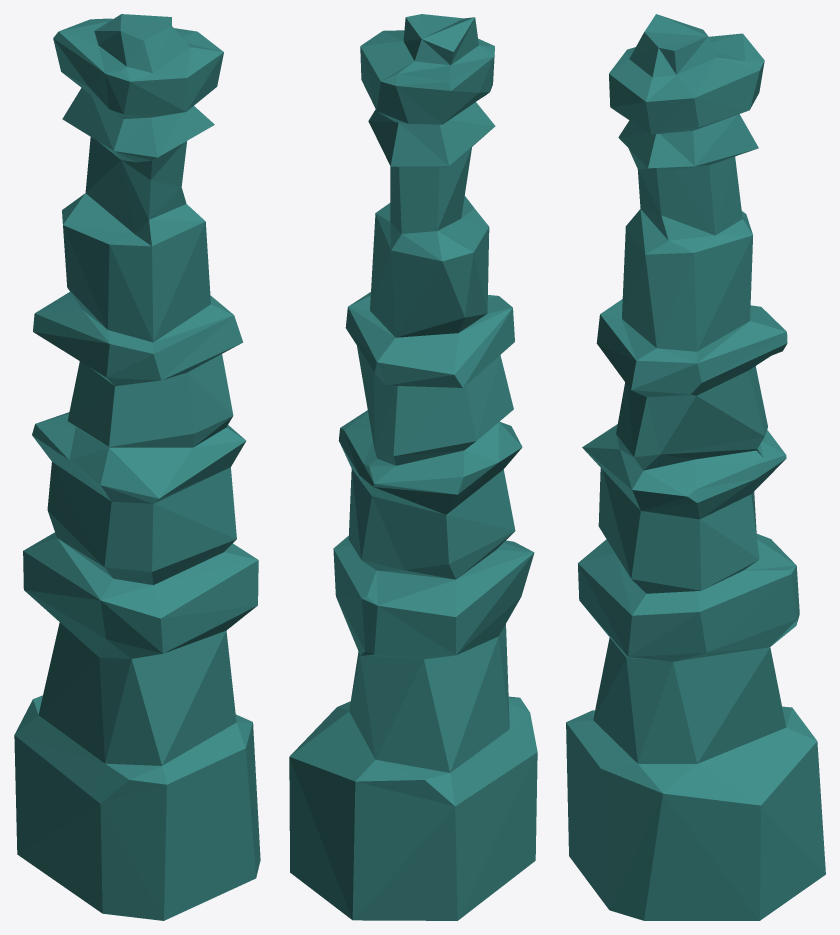
The model's file is SM_Rock_Sea_Pillar_Lava_Tall_A.fbx.
3 renders of one model, left to right at view 1: azimuth 30°, elevation 25°; view 2: azimuth 150°, elevation 25°; view 3: azimuth 270°, elevation 25°, orthographic.
Parts seen in each view (by area): view 1: rock-sea-pillar-lava-tall-a; view 2: rock-sea-pillar-lava-tall-a; view 3: rock-sea-pillar-lava-tall-a.
Boxes of the visible parts, left/top/right/bottom form: rock-sea-pillar-lava-tall-a: left=14, top=14, right=260, bottom=920; rock-sea-pillar-lava-tall-a: left=289, top=14, right=537, bottom=920; rock-sea-pillar-lava-tall-a: left=566, top=14, right=825, bottom=920.
Bounding box in the file's own units: 1.16 × 5.29 × 1.48.
